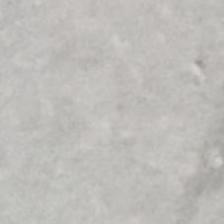Non_Crack: (13, 43, 207, 160)
